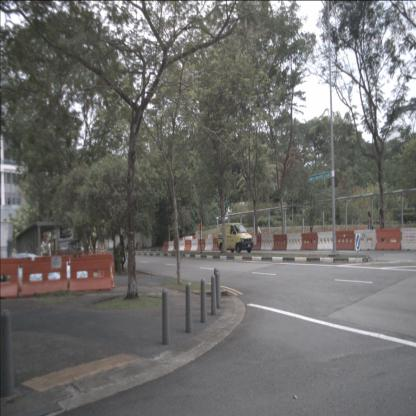barrier: (19, 254, 70, 298), (68, 253, 114, 292), (0, 258, 22, 299), (376, 228, 402, 251), (354, 230, 378, 251), (335, 230, 356, 250), (400, 228, 416, 251), (317, 232, 336, 250), (301, 232, 318, 251), (286, 233, 302, 250), (272, 234, 288, 250), (260, 234, 275, 250), (248, 236, 262, 250), (204, 238, 214, 251), (197, 239, 206, 251), (212, 238, 221, 250), (182, 236, 192, 245), (190, 240, 199, 250), (184, 240, 192, 251), (178, 240, 186, 251), (163, 241, 169, 251), (168, 241, 174, 251)
cone: (107, 260, 116, 288)
